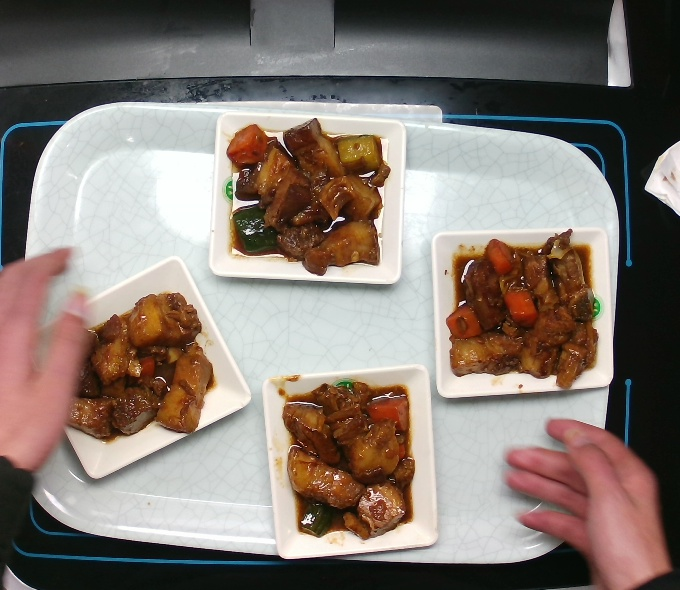wcq-JiangRou: (219, 116, 387, 282), (268, 378, 428, 552), (442, 224, 603, 392), (55, 291, 224, 442)
